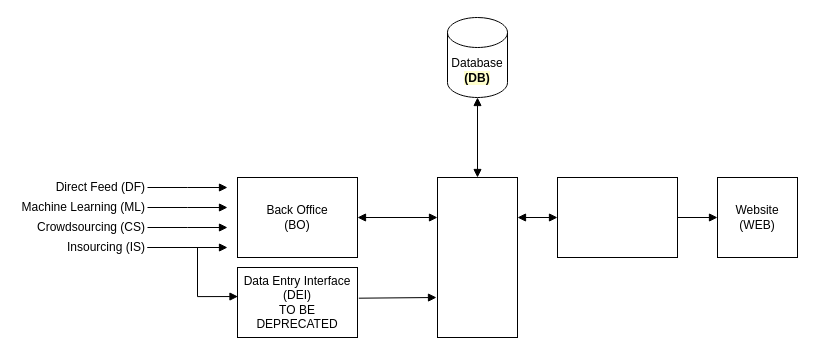
Image size: 815x355. Some labels were removed from this diagram. Each missing label, with the box of its shape:
Back End (API): (436, 176, 518, 338)
Mapping Platform (MAP): (556, 176, 678, 258)
